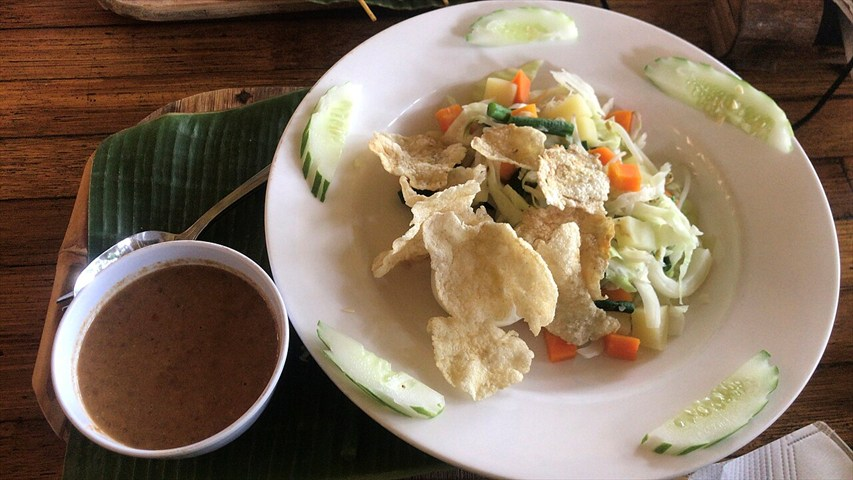Gado-Gado: (50, 43, 718, 441)
